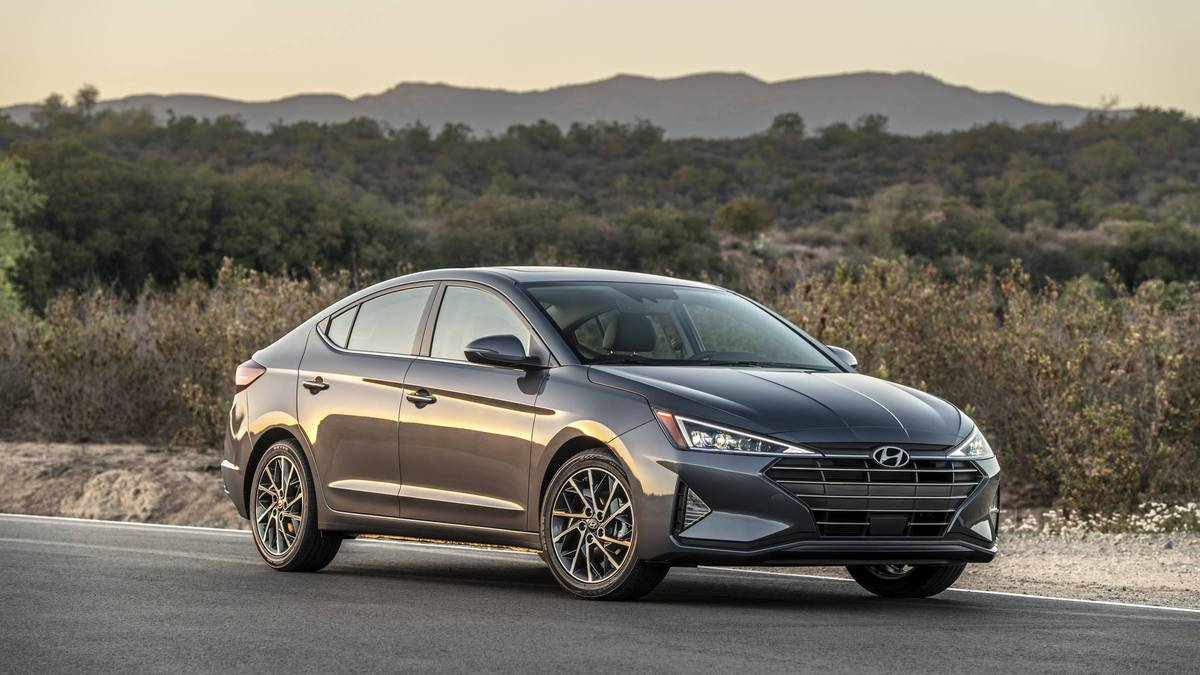elantra: (186, 257, 1025, 618)
